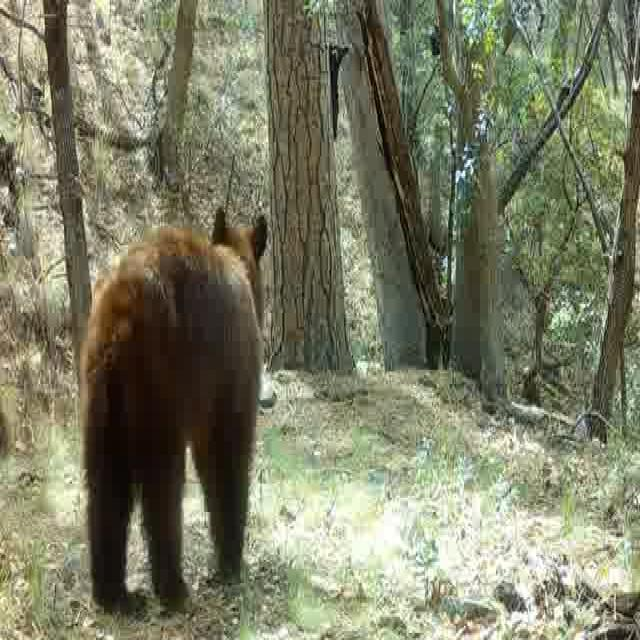bear face: (82, 200, 268, 587), (327, 41, 348, 125)
